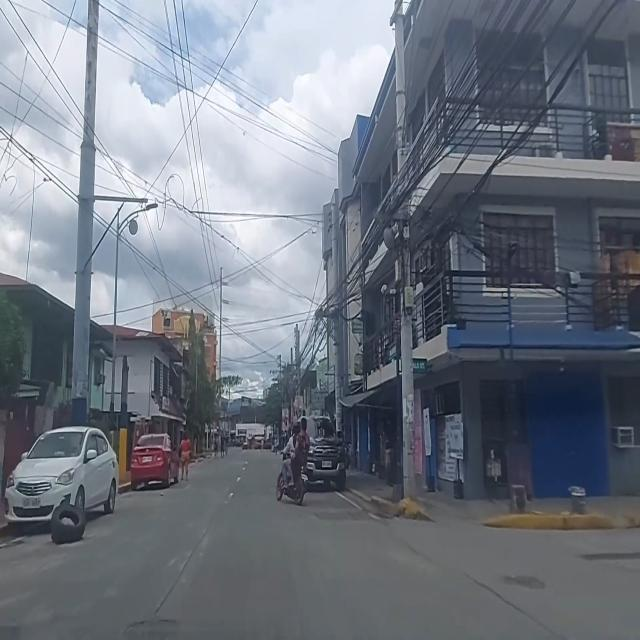car: (5, 424, 119, 526), (299, 416, 347, 494), (130, 432, 180, 490)
motorcycle: (276, 418, 310, 503)
